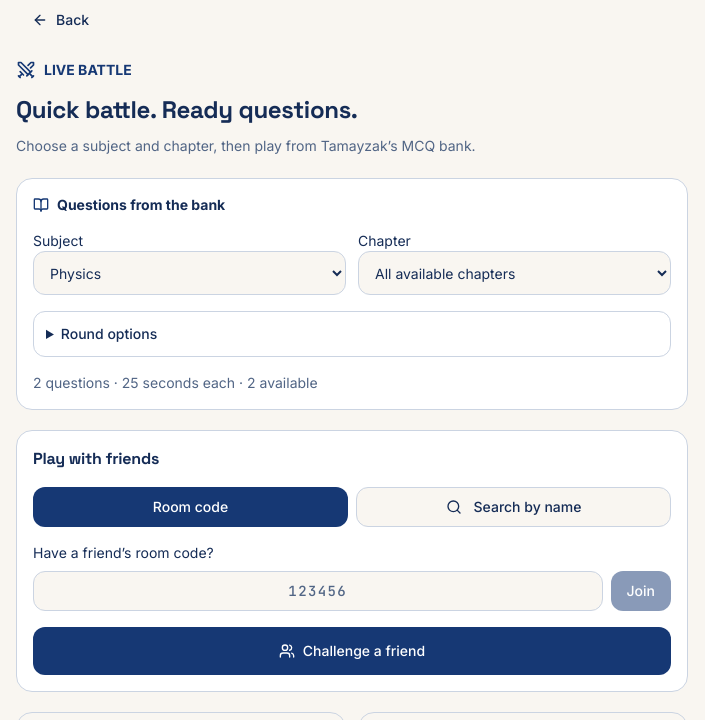
Test case: searches by name, sends the selected bank settings and hosts the invited room
The image size is (705, 720).
Later steps or results of the test are not shown.
Expected: the button "Challenge a friend" is enabled, left=33, top=627, right=671, bottom=675
Select "Chapter 2" in the dropdown labelled "Chapter" at (514, 273), box left=358, top=251, right=671, bottom=295
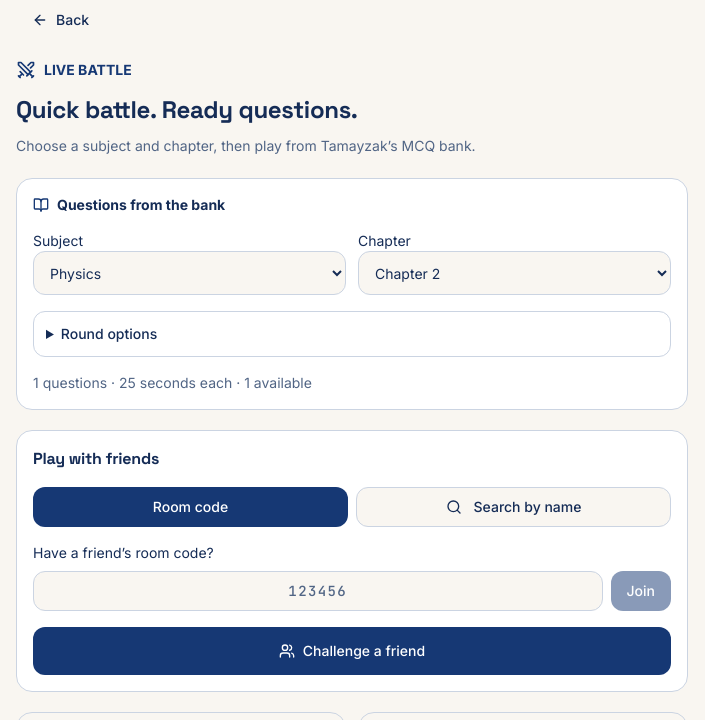
Click the button "Search by name".
click(514, 507)  # box left=356, top=487, right=671, bottom=527
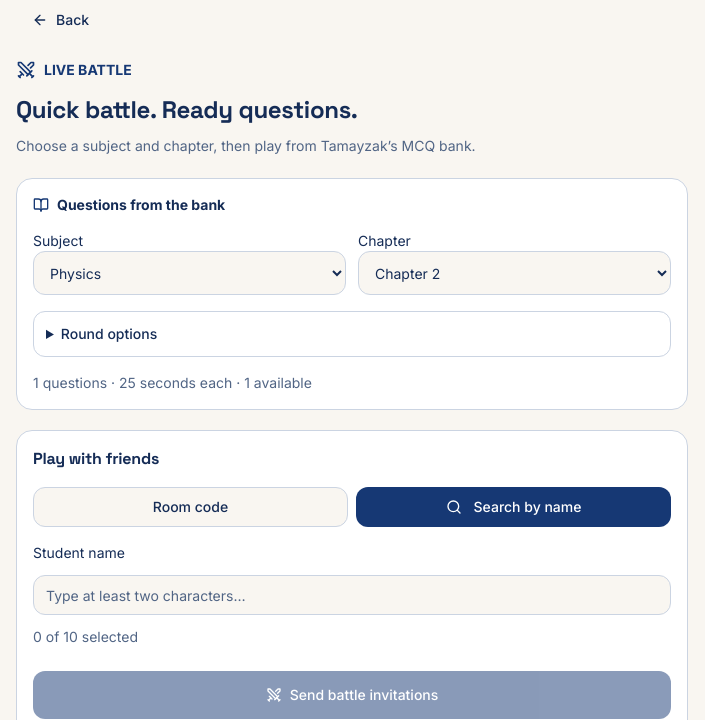
Type "Ali" into the field labelled "Student name".
click(352, 595); type("Ali")  # box left=33, top=575, right=671, bottom=615
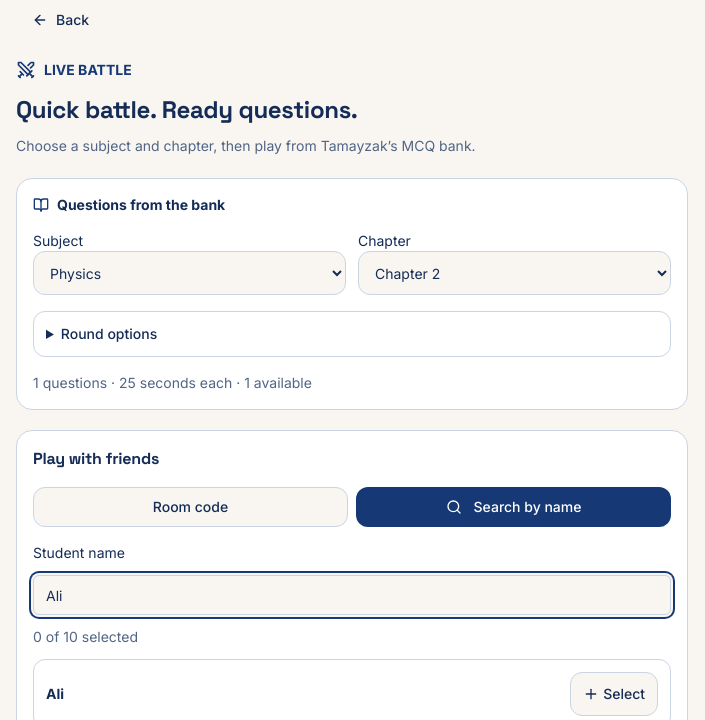
Click the button with aria-label "Select Ali".
click(614, 694)  # box left=570, top=672, right=658, bottom=716
(page scrolled)
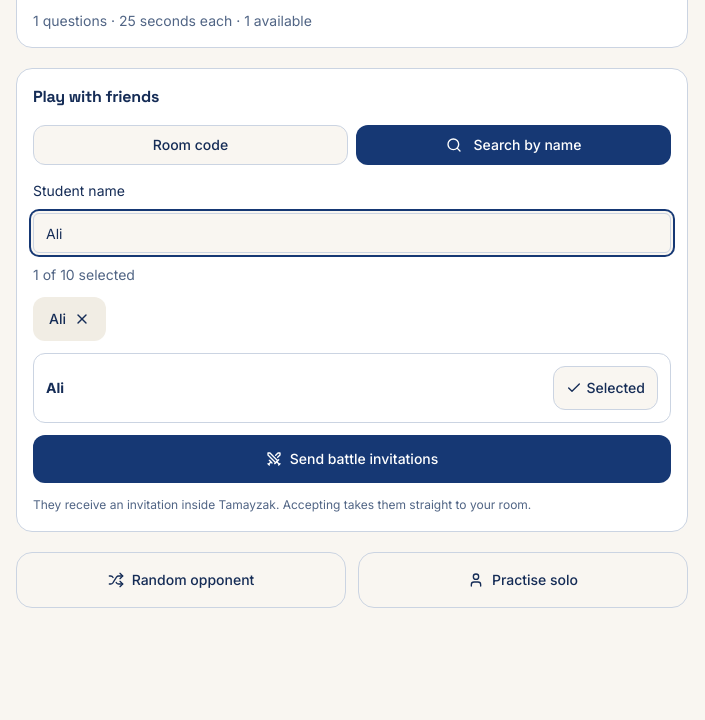
Click the button "Send battle invitations".
click(352, 459)  # box left=33, top=435, right=671, bottom=483
(page scrolled)
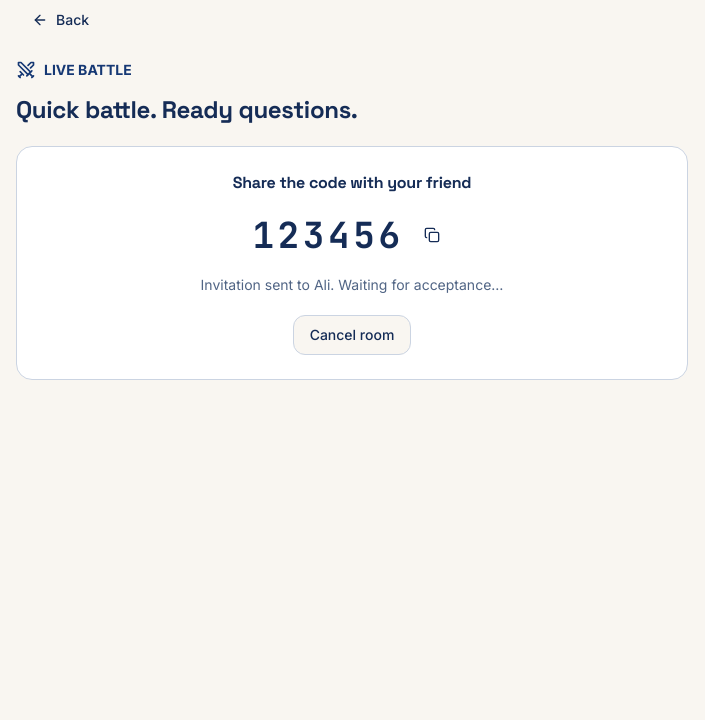
Expected: the text "Invitation sent to Ali. Waiting for acceptance…" is shown, left=201, top=276, right=503, bottom=293
